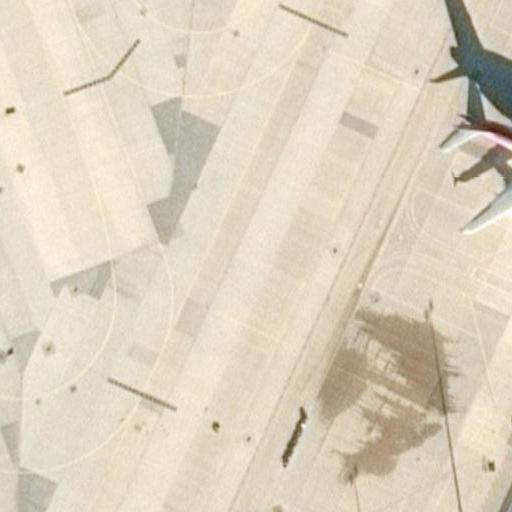Aircraft: (433, 37, 512, 234), (437, 36, 512, 236)
